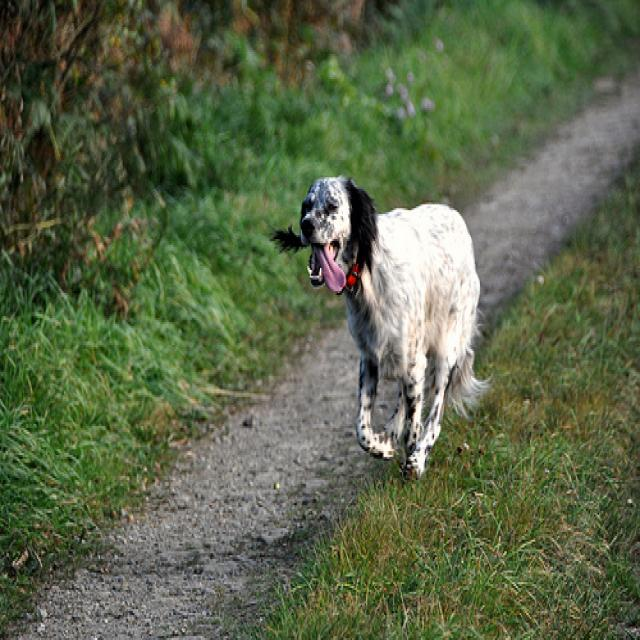dog-english_setter: (265, 162, 495, 484)
